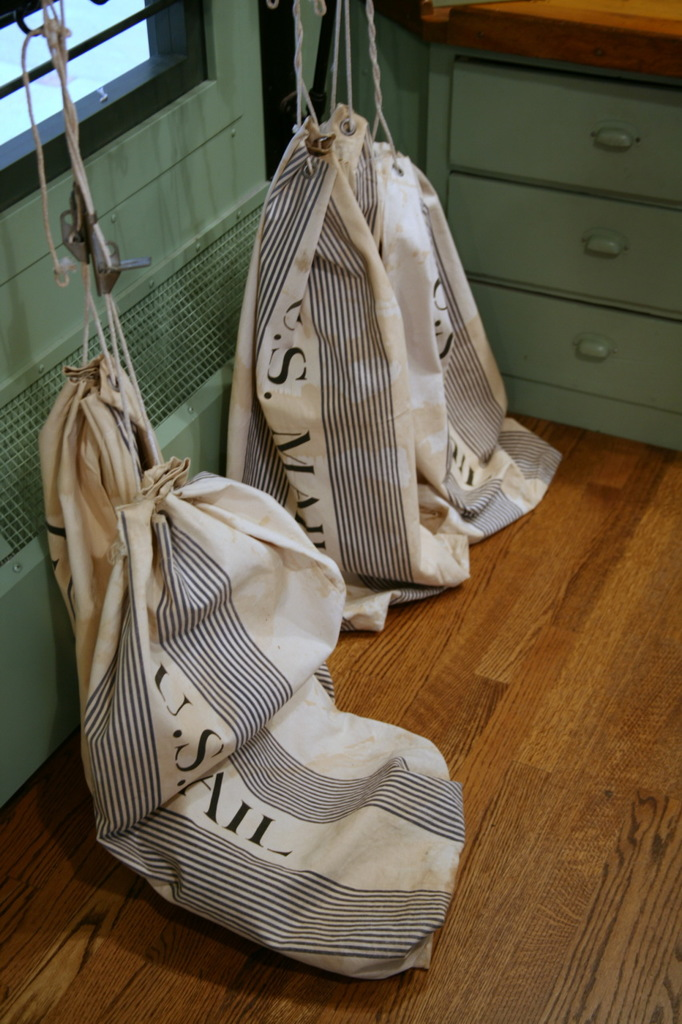cabinet door: (475, 286, 682, 414), (453, 185, 681, 300), (464, 77, 682, 192)
handle: (598, 125, 635, 172), (585, 233, 623, 270), (577, 333, 610, 371)
